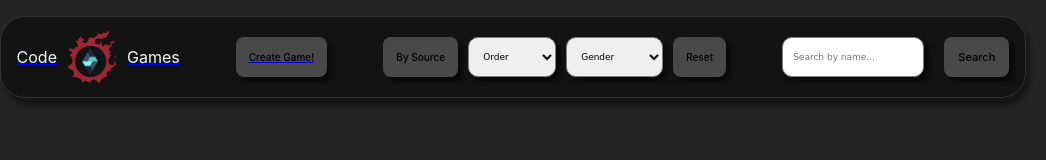
Test case: Debe renderizar el componente Nav › Debe cambiar el estado del texto del boton de la busqueda por fuente
The image size is (1046, 160).
Click the button "By Source".
click(421, 57)  # box [383, 37, 458, 77]
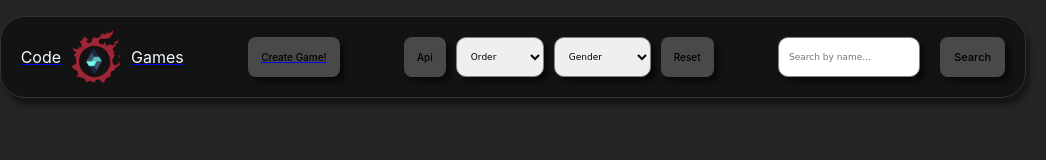
Expected: the button "Api" is shown
Click the button "Api".
click(425, 57)  # box [404, 37, 446, 77]
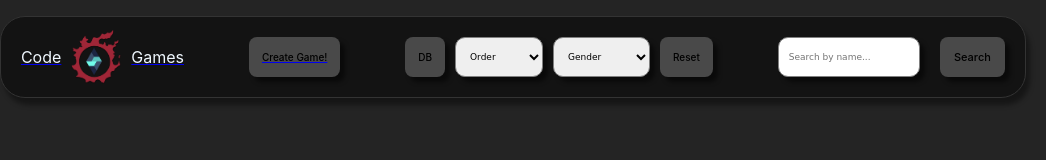
Expected: the button "DB" is shown
Click the button "DB".
click(425, 57)  # box [405, 37, 445, 77]
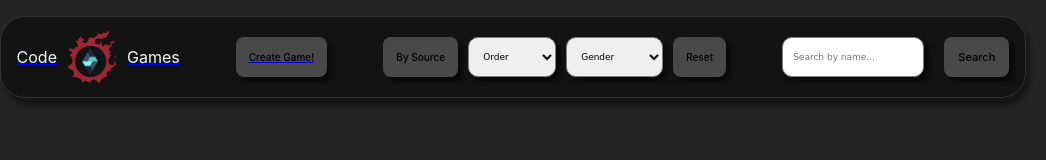
Expected: the button "By Source" is shown, [383, 37, 458, 77]
